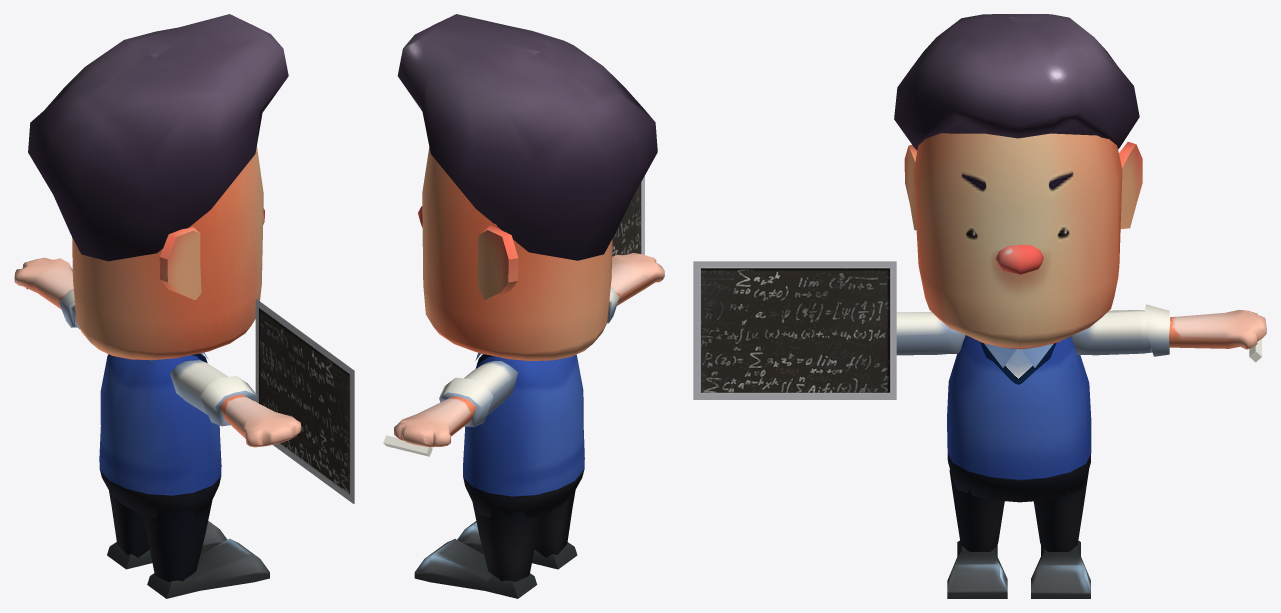
The model's file is Char_Sci_Math_02.fbx.
The picture shows the model from 3 angles, left to right: view 1: azimuth 30°, elevation 25°; view 2: azimuth 150°, elevation 25°; view 3: azimuth 270°, elevation 25°; orthographic projection. The views are drawn at different scales.
Visible parts, largest first — view 1: Hair_Mathematician, Head_Mathematician, Body_Mathematician, Paper_Mathematician, R_Leg_Mathematician, R_Arm_Mathematician, L_Leg_Mathematician, R_Ear_Mathematician, L_Arm_Mathematician; view 2: Hair_Mathematician, Head_Mathematician, Body_Mathematician, L_Leg_Mathematician, L_Arm_Mathematician, R_Leg_Mathematician, L_Ear_Mathematician, R_Arm_Mathematician, Paper_Mathematician, Chalk_Mathematician; view 3: Head_Mathematician, Paper_Mathematician, Hair_Mathematician, Body_Mathematician, L_Arm_Mathematician, R_Leg_Mathematician, L_Leg_Mathematician, R_Arm_Mathematician, L_Ear_Mathematician, Nose_Mathematician.
Part boxes in pixels (x1,y1,x2,y2): Hair_Mathematician: [28, 14, 288, 261]; Head_Mathematician: [72, 146, 263, 360]; Body_Mathematician: [99, 353, 221, 517]; Paper_Mathematician: [255, 299, 354, 503]; R_Leg_Mathematician: [142, 500, 269, 598]; R_Arm_Mathematician: [170, 360, 301, 447]; L_Leg_Mathematician: [107, 491, 227, 569]; R_Ear_Mathematician: [159, 227, 201, 300]; L_Arm_Mathematician: [14, 257, 79, 329]; Hair_Mathematician: [397, 14, 657, 260]; Head_Mathematician: [422, 147, 612, 360]; Body_Mathematician: [463, 354, 584, 518]; L_Leg_Mathematician: [414, 501, 541, 598]; L_Arm_Mathematician: [394, 361, 518, 447]; R_Leg_Mathematician: [457, 490, 577, 569]; L_Ear_Mathematician: [477, 225, 518, 299]; R_Arm_Mathematician: [607, 252, 664, 323]; Paper_Mathematician: [612, 176, 644, 256]; Chalk_Mathematician: [383, 435, 432, 456]; Head_Mathematician: [913, 133, 1122, 349]; Paper_Mathematician: [693, 261, 896, 399]; Hair_Mathematician: [894, 14, 1139, 150]; Body_Mathematician: [947, 335, 1091, 502]; L_Arm_Mathematician: [1070, 304, 1266, 356]; R_Leg_Mathematician: [947, 470, 1007, 598]; L_Leg_Mathematician: [1031, 470, 1090, 598]; R_Arm_Mathematician: [896, 312, 965, 355]; L_Ear_Mathematician: [1119, 142, 1142, 229]; Nose_Mathematician: [995, 245, 1043, 274].
Size of the model in its own units: 3.81 by 8.29 by 7.89.
